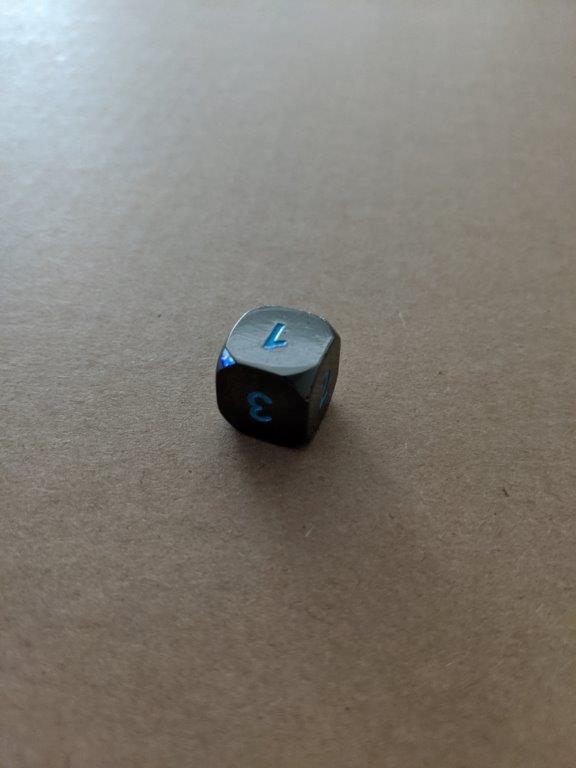d6-1: (214, 304, 340, 452)
